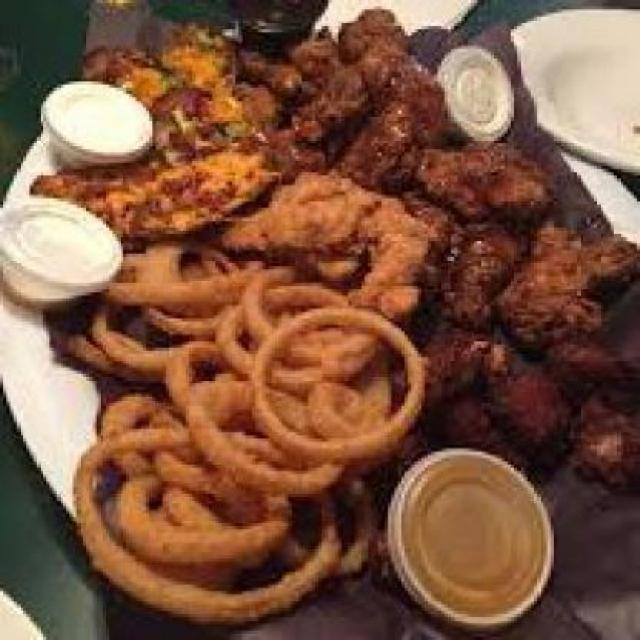chicken wings: (239, 19, 636, 487)
onion rings: (83, 235, 422, 627)
